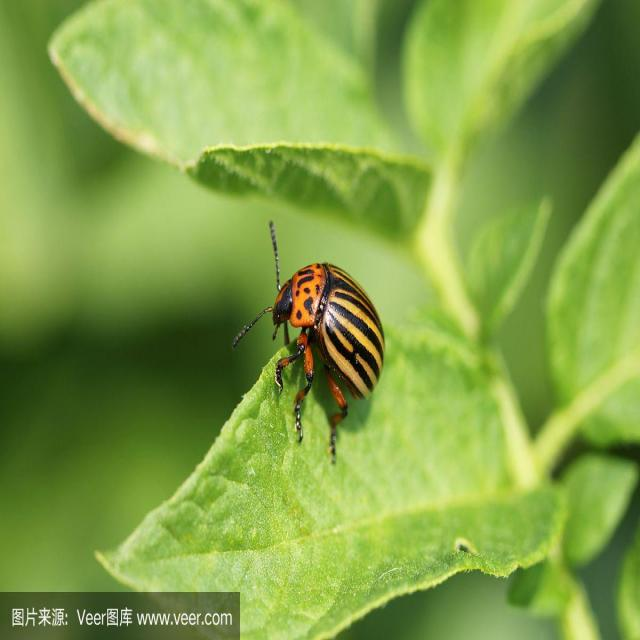ShuCaiHuaBanChong-Grown-: (259, 263, 426, 433)
